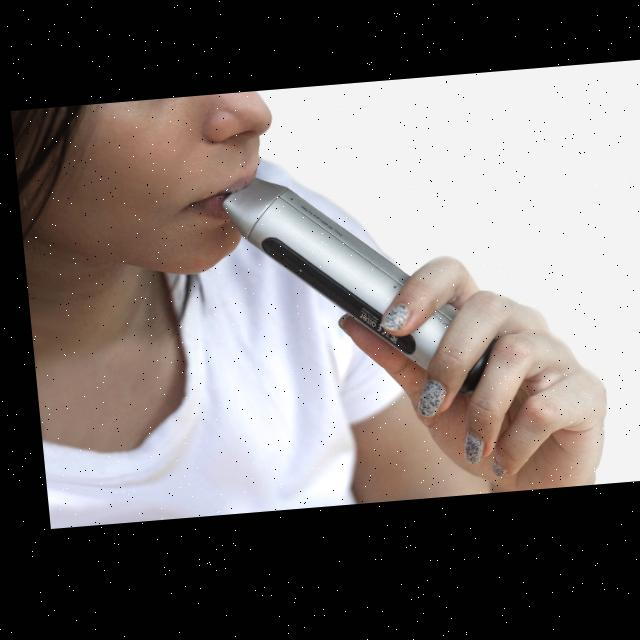vape: (214, 167, 492, 417)
